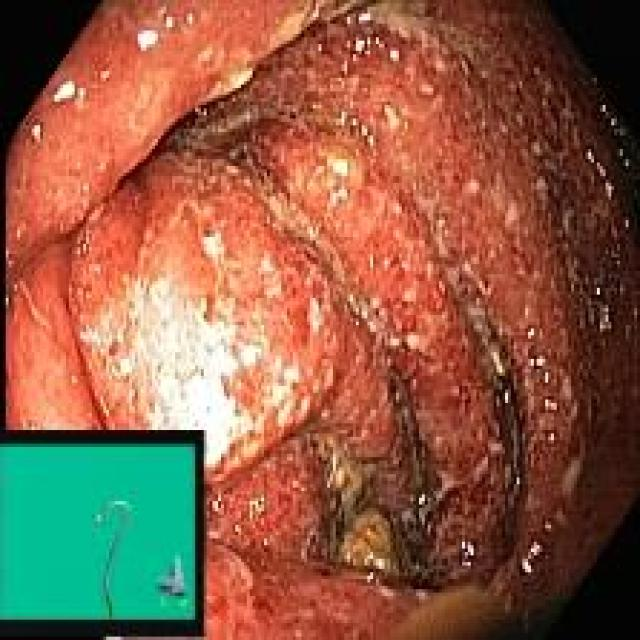ulcerative-colitis-grade-3: (6, 3, 640, 638)
